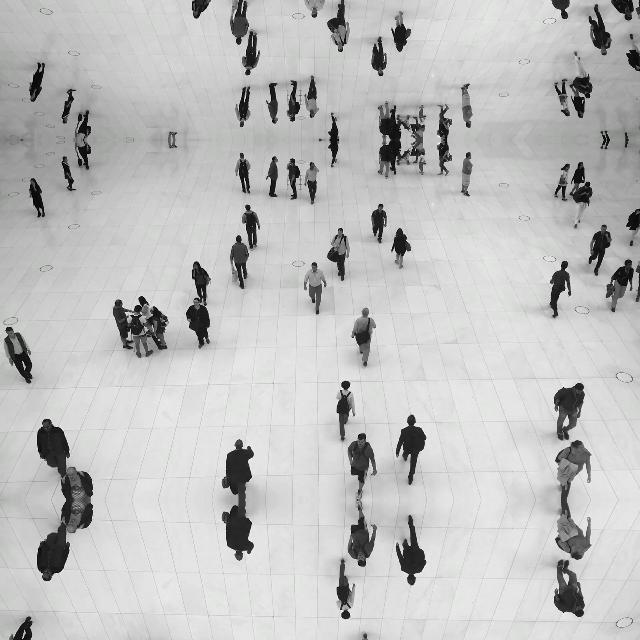person: (395, 414, 427, 486), (395, 514, 427, 586), (554, 440, 592, 500), (554, 500, 592, 560), (347, 432, 378, 500), (347, 500, 378, 568), (36, 418, 70, 478), (36, 522, 70, 582), (554, 383, 586, 441), (554, 559, 586, 617), (225, 438, 255, 499), (225, 501, 255, 562), (3, 326, 33, 384), (127, 304, 155, 360), (351, 307, 377, 367), (548, 261, 572, 319), (610, 259, 634, 313), (304, 261, 328, 315), (588, 224, 612, 276), (186, 297, 210, 349), (588, 4, 612, 56), (336, 558, 356, 620), (336, 381, 356, 442), (112, 298, 134, 350), (61, 466, 94, 500), (61, 500, 94, 534), (230, 234, 250, 290), (329, 0, 350, 53), (330, 227, 350, 281), (571, 181, 593, 229), (571, 51, 593, 99), (229, 0, 250, 45), (391, 228, 412, 270), (391, 10, 412, 52), (191, 262, 211, 306), (149, 306, 169, 350), (242, 204, 260, 250), (242, 30, 260, 76), (370, 203, 388, 244), (28, 61, 46, 102), (28, 178, 46, 218), (370, 36, 388, 76), (3, 616, 33, 640), (304, 75, 320, 118), (235, 152, 251, 194), (286, 158, 302, 200), (304, 162, 320, 204), (235, 86, 251, 128), (286, 80, 302, 122), (377, 140, 393, 178), (554, 163, 570, 201), (377, 102, 393, 140), (554, 79, 570, 117), (266, 156, 280, 198), (266, 82, 280, 124), (570, 162, 586, 196), (570, 84, 586, 118), (626, 208, 640, 246), (626, 34, 640, 72), (461, 152, 473, 196), (461, 84, 473, 128), (609, 0, 634, 21), (75, 140, 92, 170), (75, 110, 92, 140), (62, 156, 76, 192), (388, 140, 402, 176), (437, 140, 451, 176), (62, 88, 76, 124), (388, 104, 402, 140), (437, 104, 451, 140), (548, 0, 572, 19), (304, 0, 328, 19), (191, 0, 211, 18), (328, 140, 340, 168), (409, 140, 423, 164), (138, 296, 152, 320), (328, 112, 340, 140), (409, 116, 423, 140), (634, 260, 640, 302), (418, 148, 426, 176), (418, 104, 426, 132), (351, 633, 377, 640), (600, 140, 610, 150), (600, 130, 610, 140), (634, 0, 639, 20), (168, 140, 178, 148), (168, 132, 178, 140), (623, 140, 629, 148), (623, 132, 629, 140)
